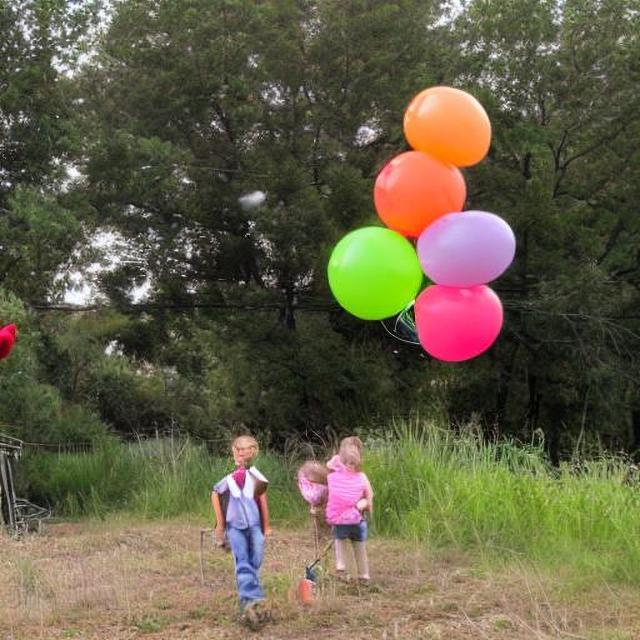balloon: (356, 213, 515, 362), (362, 83, 493, 241), (318, 220, 422, 324)
